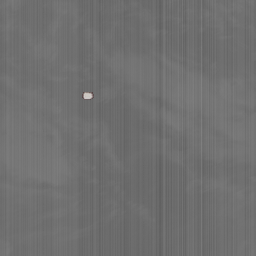Target: (81, 89, 95, 100)
